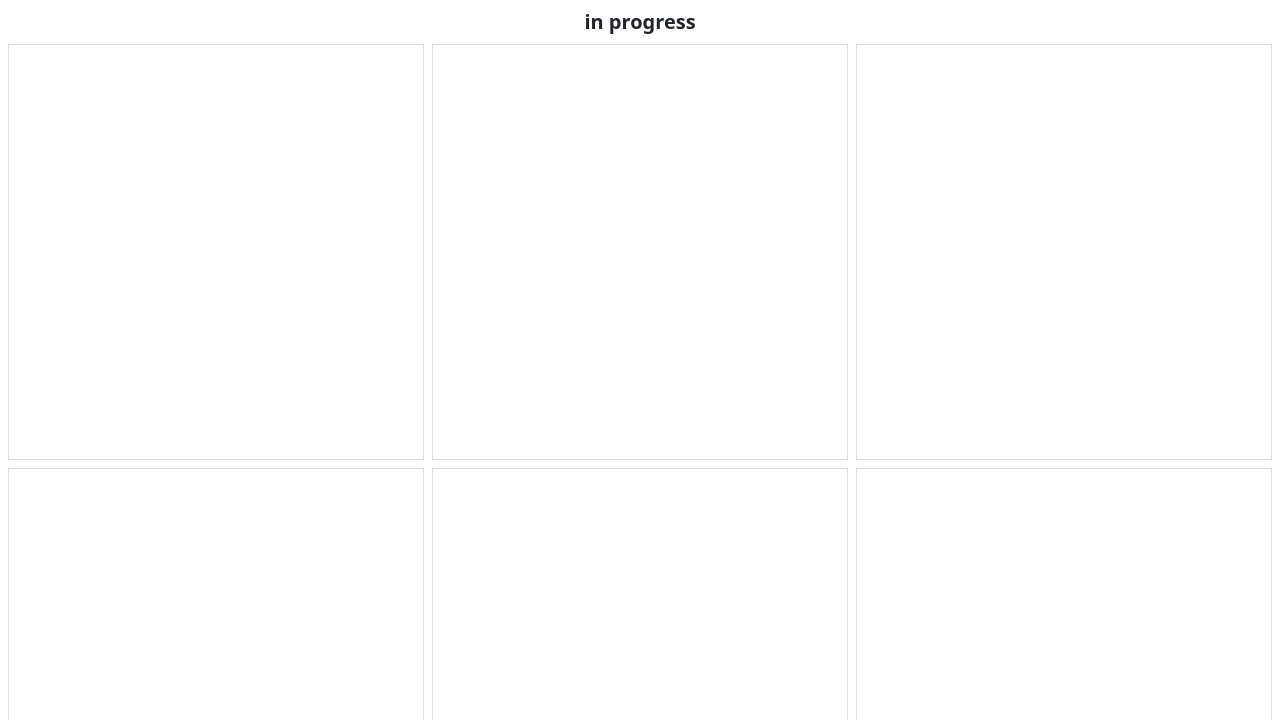
it: TicTacToe component (turn-agnostic API via MSW) › plays a simple X-only game and declares winner
Note: X clicks 0,1,2 (turn-agnostic handler accepts X-only)
Step 1. Click the button named "cell-0" → (216, 252), box [8,44,424,460]
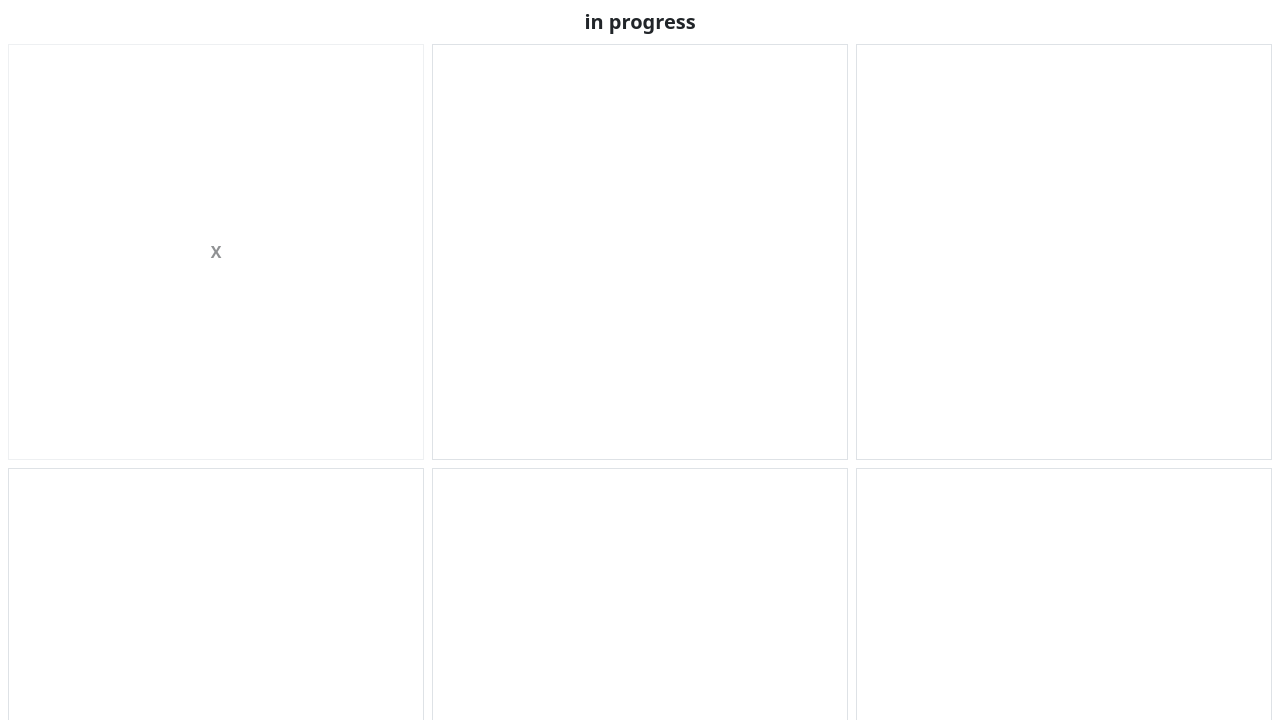
Now the button named "cell-0" reads "X", box [8,44,424,460]
Step 2. Click the button named "cell-1" → (640, 252), box [432,44,848,460]
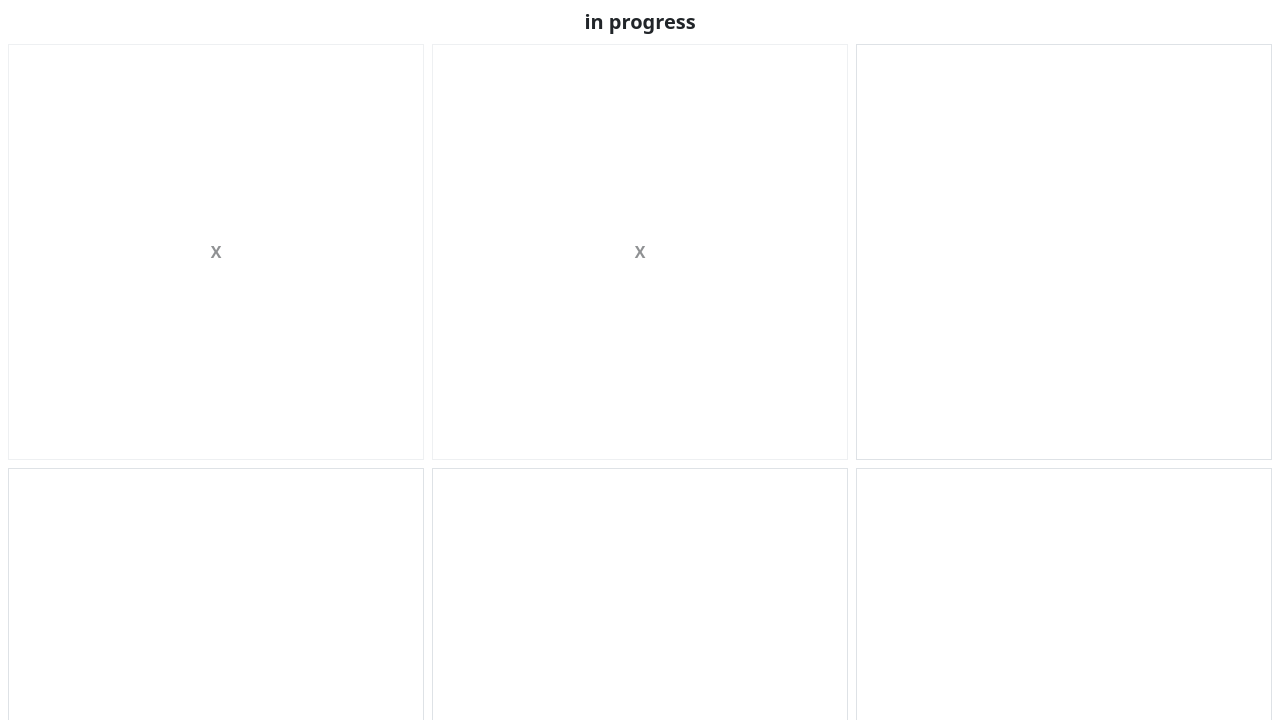
Now the button named "cell-1" reads "X", box [432,44,848,460]
Step 3. Click the button named "cell-2" → (1064, 252), box [856,44,1272,460]
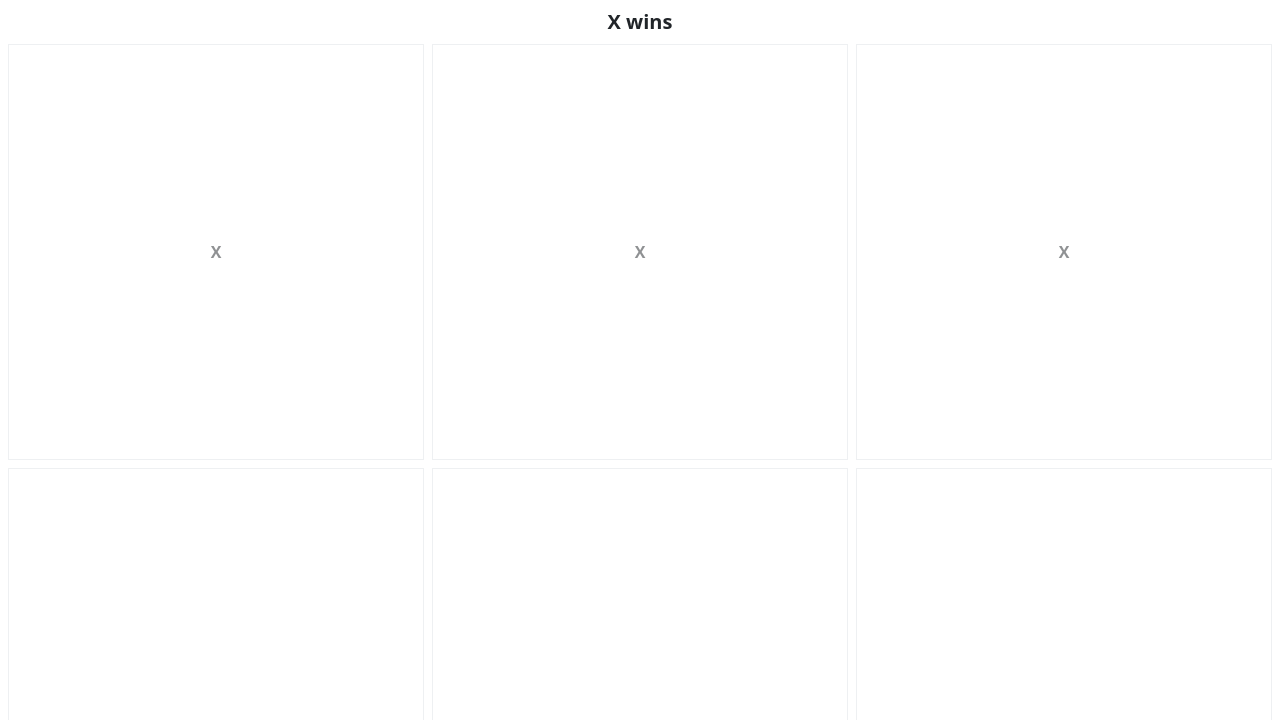
Now the button named "cell-2" reads "X", box [856,44,1272,460]
Now the text "X wins" is shown, box [608,8,672,35]
